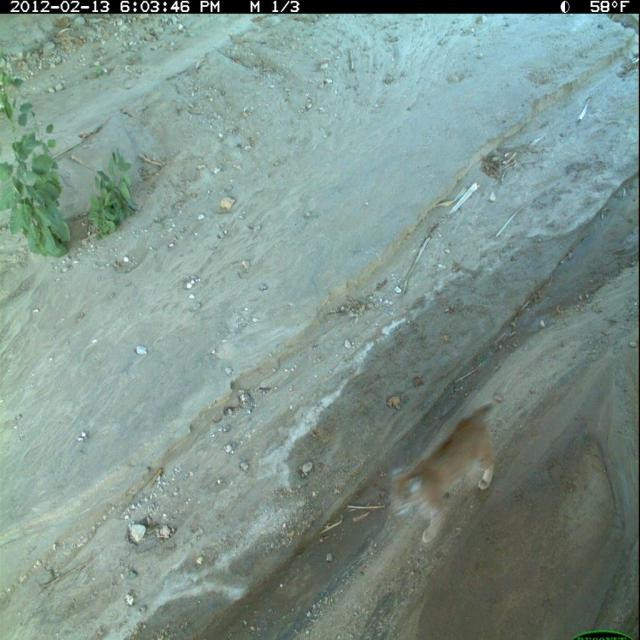bobcat: (384, 399, 502, 550)
